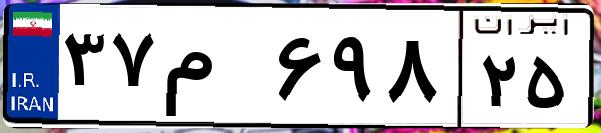2: (475, 38, 525, 113)
3: (57, 26, 110, 100)
5: (525, 38, 570, 115)
6: (270, 28, 330, 110)
7: (110, 28, 158, 98)
8: (385, 28, 445, 110)
9: (330, 28, 385, 110)
م: (158, 20, 270, 120)
